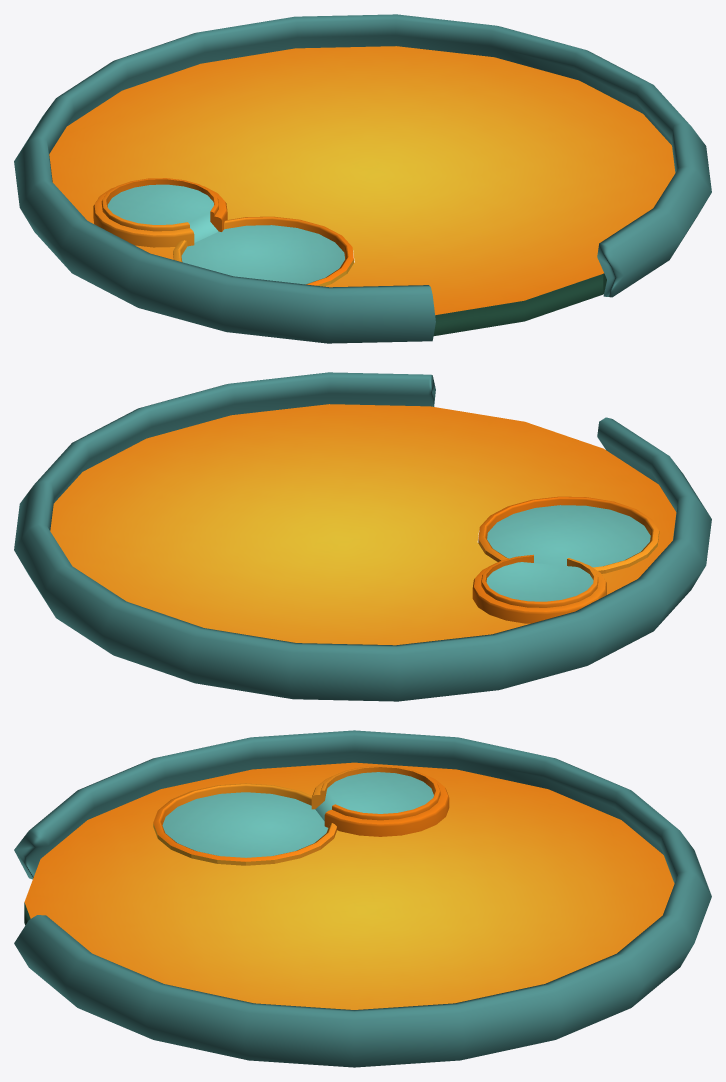
The model's file is SM_Y_11_Sw_Water3.fbx.
The picture shows the model from 3 angles, top to bottom: view 1: azimuth 30°, elevation 25°; view 2: azimuth 150°, elevation 25°; view 3: azimuth 270°, elevation 25°; orthographic projection.
Visible parts, largest first — view 1: SM_Y_11_Sw_Water3; view 2: SM_Y_11_Sw_Water3; view 3: SM_Y_11_Sw_Water3.
Boxes of the visible parts, left/top/right/bottom form: SM_Y_11_Sw_Water3: left=14, top=14, right=711, bottom=343; SM_Y_11_Sw_Water3: left=14, top=372, right=711, bottom=701; SM_Y_11_Sw_Water3: left=14, top=730, right=711, bottom=1067.
Bounding box in the file's own units: 3144 × 263 × 3068.
